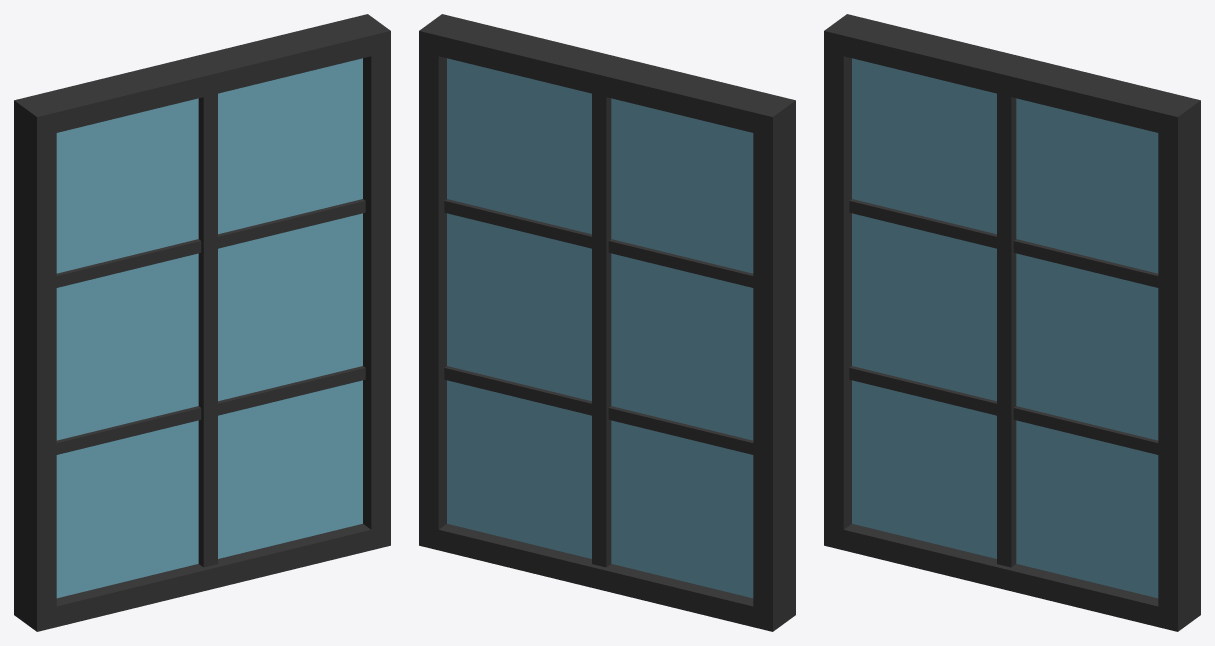
File: Window_01.fbx
3 renders of one model, left to right at view 1: azimuth 30°, elevation 25°; view 2: azimuth 150°, elevation 25°; view 3: azimuth 330°, elevation 25°, orthographic.
Parts seen in each view (by area): view 1: Window_01; view 2: Window_01; view 3: Window_01.
Part boxes in pixels (left/top/right/bottom): Window_01: left=14, top=14, right=390, bottom=631; Window_01: left=419, top=14, right=795, bottom=631; Window_01: left=824, top=14, right=1200, bottom=631.
Bounding box in the file's own units: 79.21 × 110 × 8.94.
